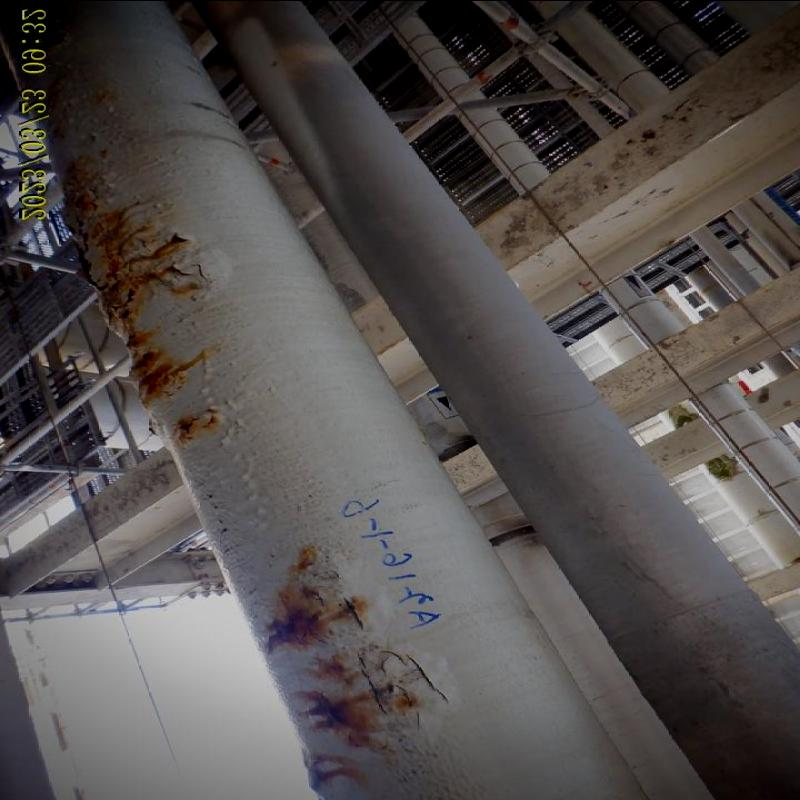corrosion: (262, 564, 418, 728)
